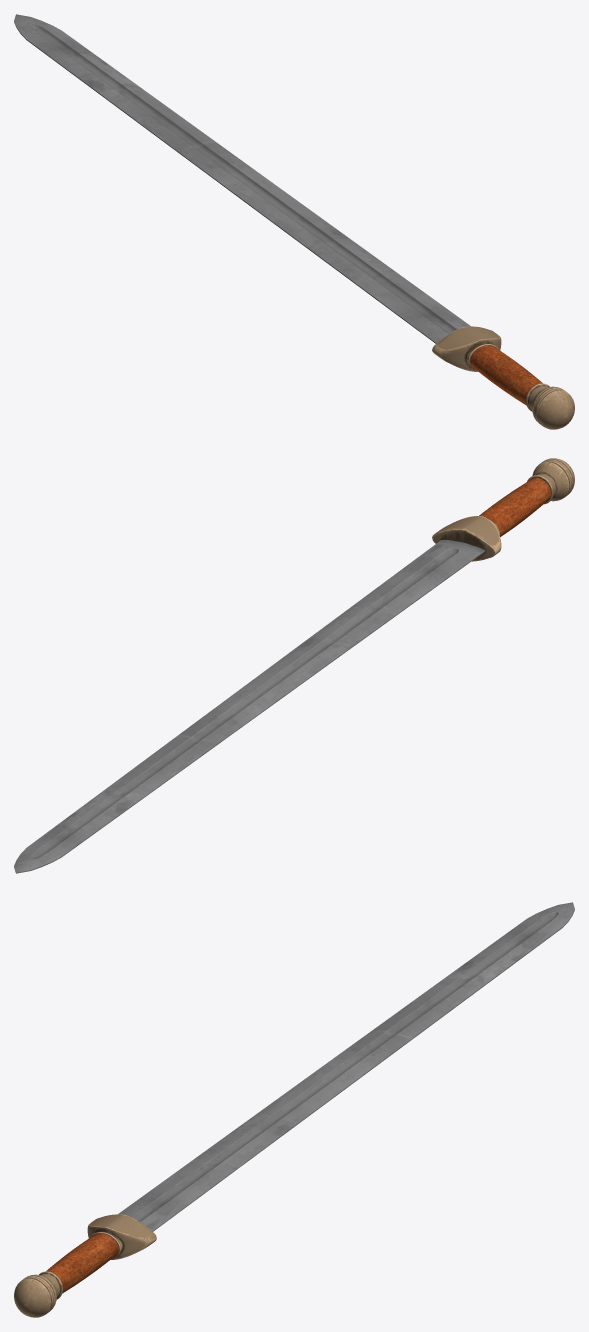
File: roman_spatha.glb
The picture shows the model from 3 angles, top to bottom: view 1: azimuth 30°, elevation 25°; view 2: azimuth 150°, elevation 25°; view 3: azimuth 330°, elevation 25°; orthographic projection.
Visible parts, largest first — view 1: Object_2; view 2: Object_2; view 3: Object_2.
Part boxes in pixels (x1,y1,x2,y2): Object_2: (14, 14, 574, 429); Object_2: (14, 458, 574, 873); Object_2: (14, 902, 574, 1317).
Bounding box in the file's own units: 0.0654 × 0.0374 × 0.9801.
1 material, 1 textured.
